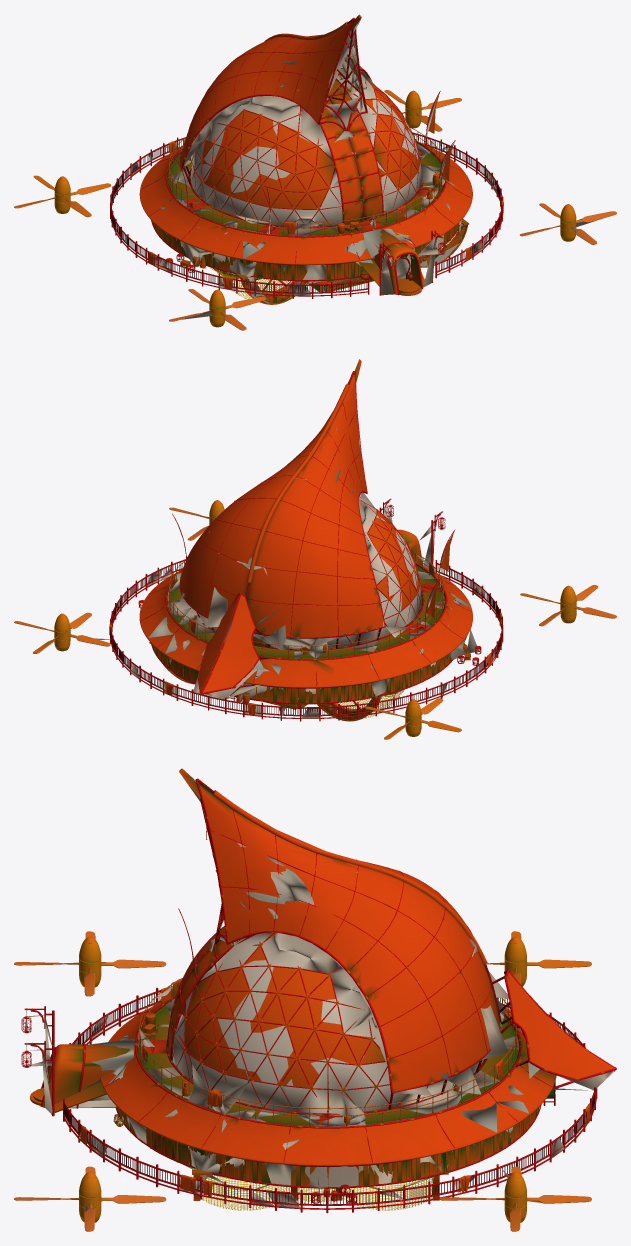
Rendered from SpliceB.glb.
3 renders of one model, top to bottom at view 1: azimuth 30°, elevation 25°; view 2: azimuth 150°, elevation 25°; view 3: azimuth 270°, elevation 25°, orthographic. The views are drawn at different scales.
Parts seen in each view (by area): view 1: L0, L1, L2; view 2: L0, L1, L2; view 3: L0, L1, L2.
Boxes of the visible parts, bbox=[...] form: L0: bbox=[14, 16, 616, 330]; L1: bbox=[15, 14, 615, 328]; L2: bbox=[47, 20, 597, 319]; L0: bbox=[14, 365, 616, 739]; L1: bbox=[15, 359, 613, 737]; L2: bbox=[94, 428, 582, 724]; L0: bbox=[14, 770, 616, 1231]; L1: bbox=[16, 768, 610, 1230]; L2: bbox=[24, 774, 615, 1211].
Size of the model in its own units: 43.31 by 26 by 36.83.
